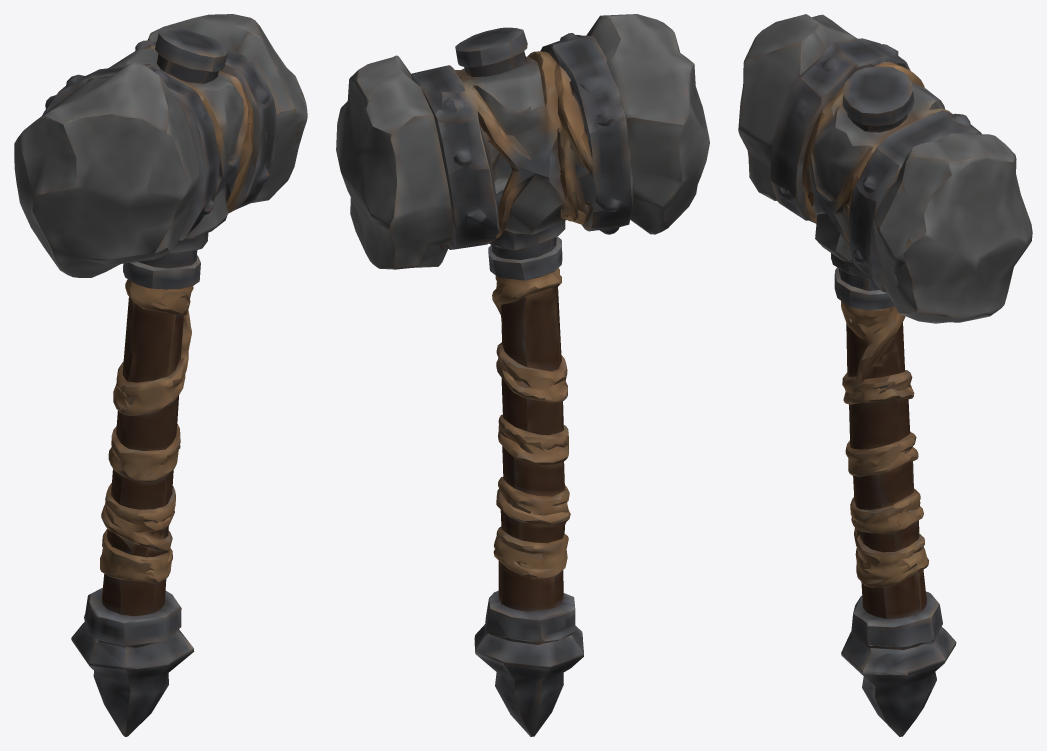
The model's file is malho.glb.
3 renders of one model, left to right at view 1: azimuth 30°, elevation 25°; view 2: azimuth 150°, elevation 25°; view 3: azimuth 270°, elevation 25°, orthographic. The views are drawn at different scales.
Parts seen in each view (by area): view 1: world; view 2: world; view 3: world.
Part boxes in pixels (x1,y1,x2,y2): world: (14,14,307,736); world: (336,14,709,736); world: (738,14,1032,736).
Size of the model in its own units: 0.6822 by 1.45 by 0.5551.
1 material, 1 textured.
